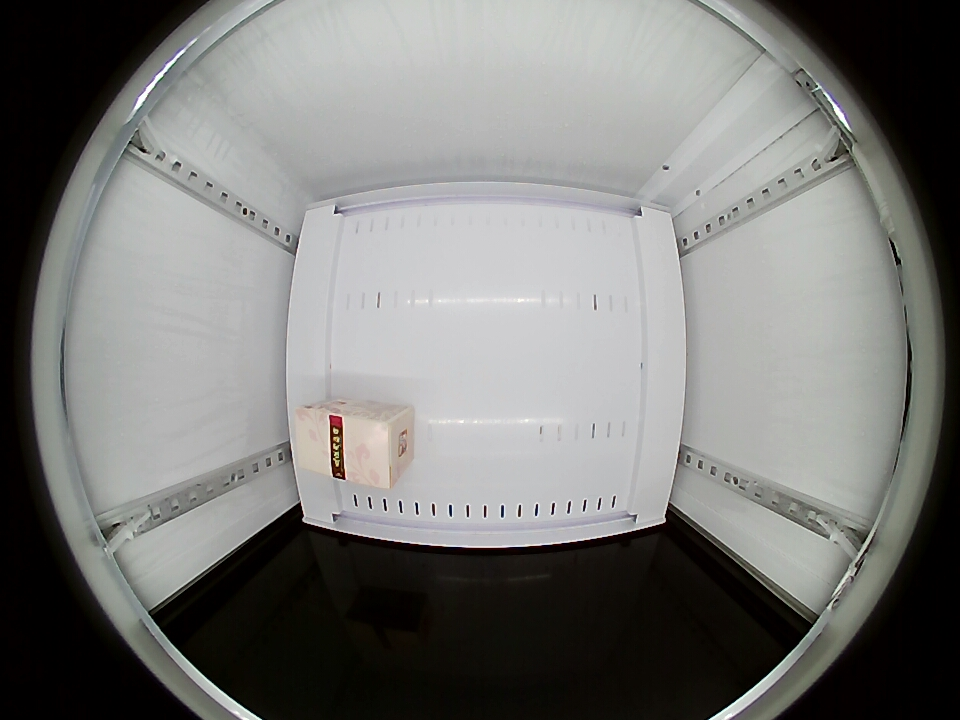rousongbing: (293, 401, 406, 492)
